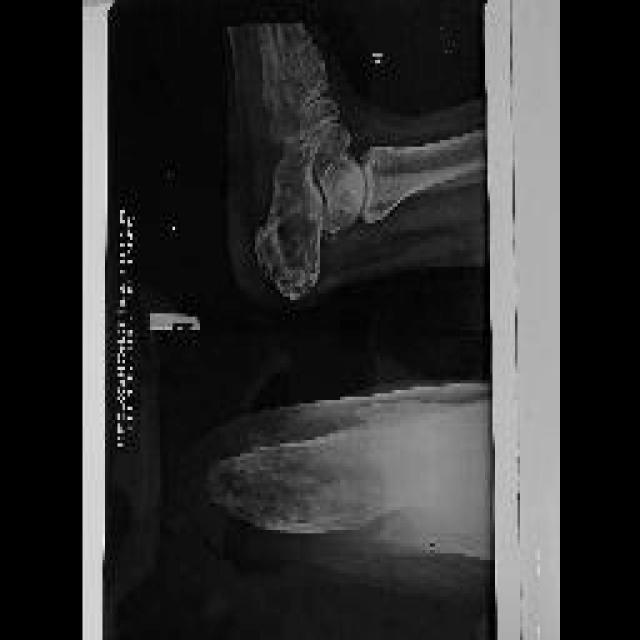bone-cancer: (262, 156, 324, 299)
